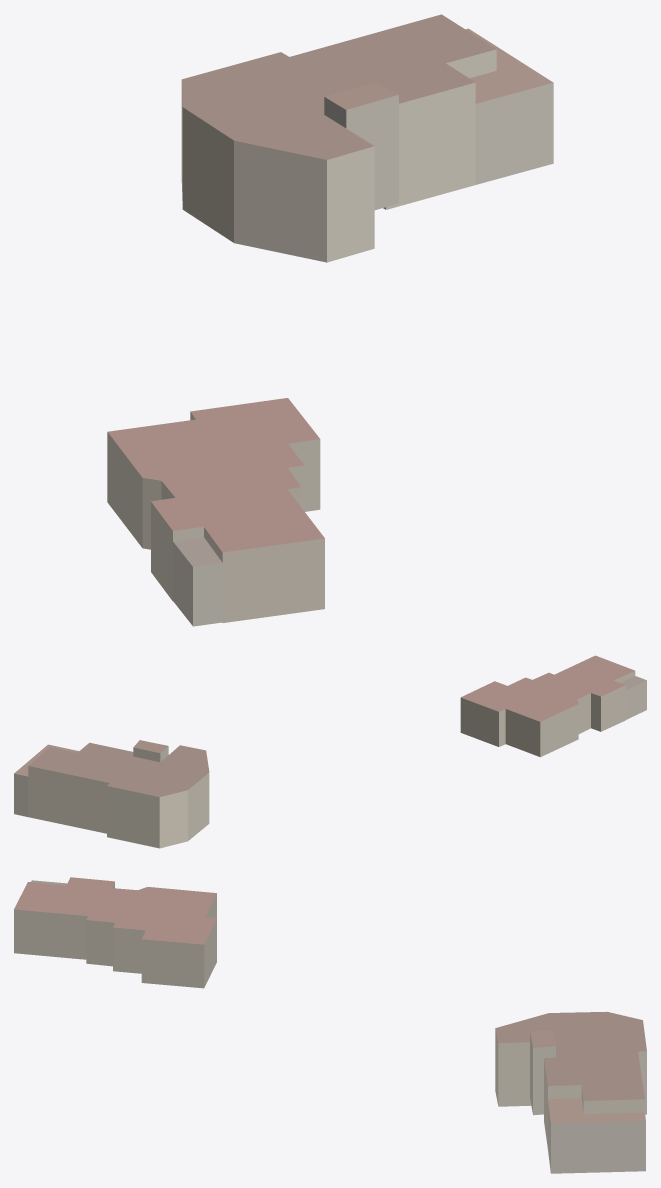
3 views of the same model, one above another, from view 1: azimuth 30°, elevation 25°; view 2: azimuth 150°, elevation 25°; view 3: azimuth 270°, elevation 25° (orthographic). The views are drawn at different scales.
Parts seen in each view (by area): view 1: tuile; view 2: tuile; view 3: tuile.
Boxes of the visible parts, bbox=[...] form: tuile: bbox=[107, 14, 553, 626]; tuile: bbox=[14, 655, 646, 848]; tuile: bbox=[14, 877, 646, 1173].
Size of the model in its own units: 56.3 by 8.33 by 63.9.
